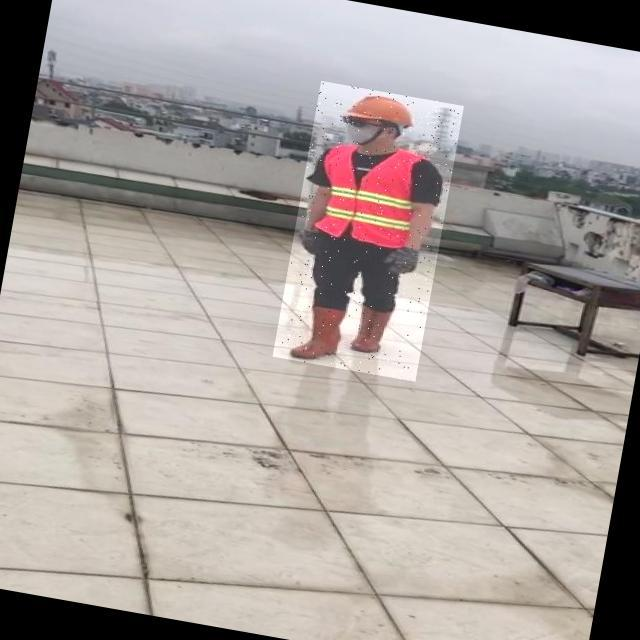Gloves: (378, 242, 420, 276), (298, 230, 324, 256)
Helmet: (340, 87, 421, 132)
Human: (272, 81, 463, 382)
Safety Boot: (289, 299, 348, 364), (351, 304, 394, 356)
Safety Vest: (310, 137, 423, 250)
